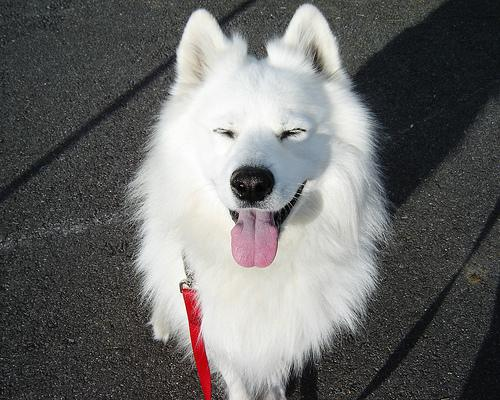dog-samoyed: (174, 2, 340, 266)
